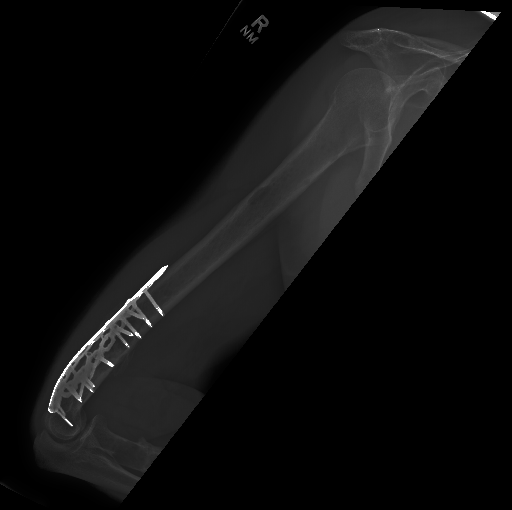implant: (49, 261, 176, 427)
